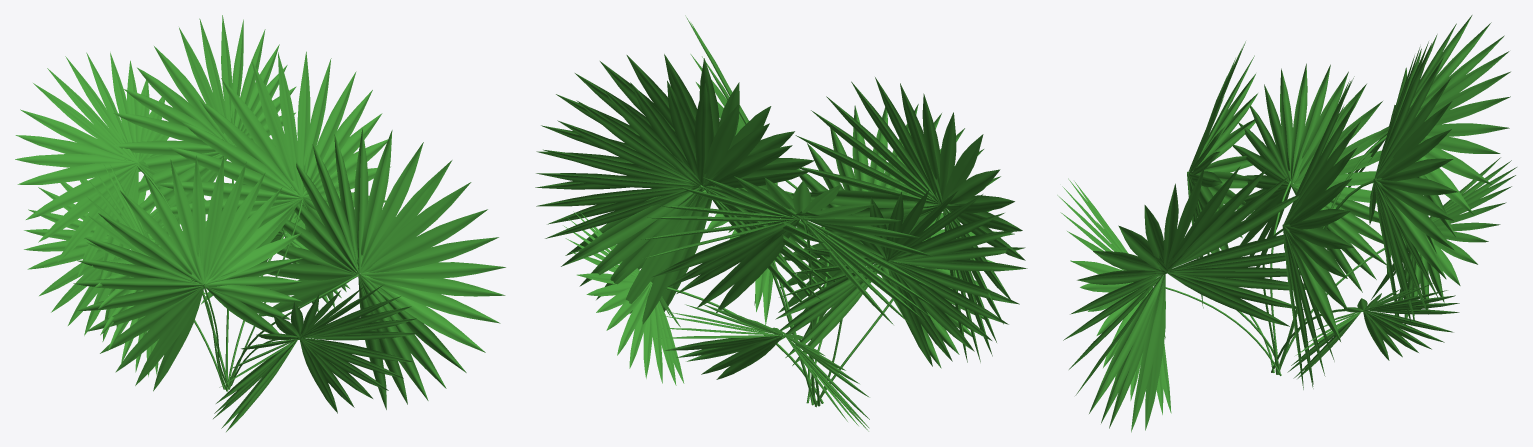
File: Anahaw_Sapling_Final.glb
3 renders of one model, left to right at view 1: azimuth 30°, elevation 25°; view 2: azimuth 150°, elevation 25°; view 3: azimuth 270°, elevation 25°, orthographic. The views are drawn at different scales.
Parts seen in each view (by area): view 1: LEAF006, LEAF007, LEAF004, LEAF002, LEAF003, LEAF012, LEAF009, LEAF005, LEAF011; view 2: LEAF003, LEAF002, LEAF007, LEAF005, LEAF004, LEAF009, LEAF011, LEAF012, LEAF006; view 3: LEAF006, LEAF005, LEAF003, LEAF004, LEAF002, LEAF007, LEAF011, LEAF009, LEAF012.
Part boxes in pixels (box(x1,y1,x2,y2)): LEAF006: box(260, 129, 505, 409); LEAF007: box(73, 155, 302, 391); LEAF004: box(155, 51, 390, 307); LEAF002: box(15, 52, 206, 279); LEAF003: box(113, 15, 296, 245); LEAF012: box(213, 285, 418, 431); LEAF009: box(24, 175, 205, 341); LEAF005: box(86, 164, 158, 376); LEAF011: box(260, 192, 354, 311); LEAF003: box(536, 80, 829, 324); LEAF002: box(640, 176, 935, 324); LEAF007: box(791, 77, 1025, 362); LEAF005: box(775, 189, 1027, 366); LEAF004: box(535, 54, 835, 314); LEAF009: box(656, 303, 869, 431); LEAF011: box(563, 211, 684, 385); LEAF012: box(778, 104, 1014, 368); LEAF006: box(685, 15, 777, 324); LEAF006: box(1063, 166, 1329, 432); LEAF005: box(1233, 63, 1389, 292); LEAF003: box(1369, 41, 1457, 328); LEAF004: box(1282, 76, 1360, 389); LEAF002: box(1348, 15, 1510, 277); LEAF007: box(1187, 41, 1260, 308); LEAF011: box(1287, 282, 1459, 378); LEAF009: box(1371, 157, 1516, 324); LEAF012: box(1057, 178, 1171, 414).
Bounding box in the file's own units: 1.96 × 1.63 × 1.95.
